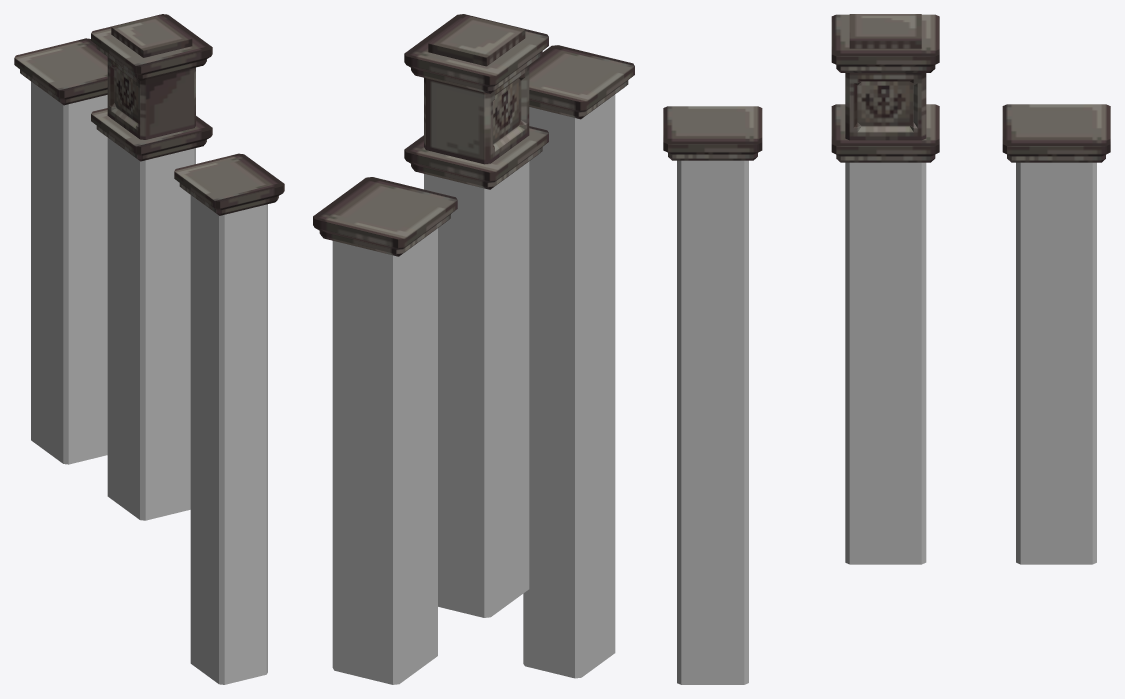
File: EnvMdrMD_Sea_A_Pillar_A.FBX
3 views of the same model, side by side, from view 1: azimuth 30°, elevation 25°; view 2: azimuth 150°, elevation 25°; view 3: azimuth 270°, elevation 25° (orthographic). The views are drawn at different scales.
Visible parts, largest first — view 1: EnvMdrMD_Sea_A_Pillar_A, EnvMdrMD_Sea_A_Pillar_A_Base_B, EnvMdrMD_Sea_A_Pillar_A_Base_A; view 2: EnvMdrMD_Sea_A_Pillar_A, EnvMdrMD_Sea_A_Pillar_A_Base_B, EnvMdrMD_Sea_A_Pillar_A_Base_A; view 3: EnvMdrMD_Sea_A_Pillar_A, EnvMdrMD_Sea_A_Pillar_A_Base_B, EnvMdrMD_Sea_A_Pillar_A_Base_A.
Boxes of the visible parts, <box> form: EnvMdrMD_Sea_A_Pillar_A: <box>91,14,212,520</box>; EnvMdrMD_Sea_A_Pillar_A_Base_B: <box>174,153,284,684</box>; EnvMdrMD_Sea_A_Pillar_A_Base_A: <box>14,38,107,464</box>; EnvMdrMD_Sea_A_Pillar_A: <box>404,14,548,617</box>; EnvMdrMD_Sea_A_Pillar_A_Base_B: <box>523,45,634,678</box>; EnvMdrMD_Sea_A_Pillar_A_Base_A: <box>313,177,457,684</box>; EnvMdrMD_Sea_A_Pillar_A: <box>831,14,939,564</box>; EnvMdrMD_Sea_A_Pillar_A_Base_B: <box>663,106,762,684</box>; EnvMdrMD_Sea_A_Pillar_A_Base_A: <box>1002,104,1110,564</box>.
Bounding box in the file's own units: 110 × 790 × 497.
